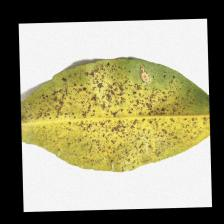canker: (62, 82, 173, 162)
